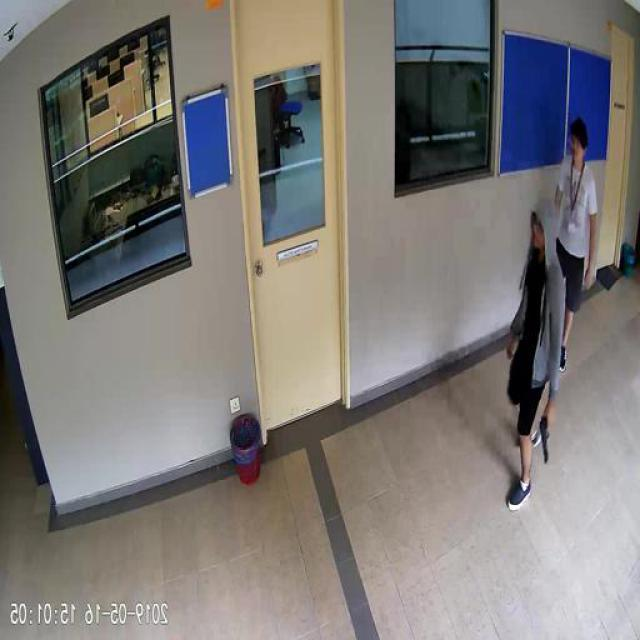Gun: (541, 414, 554, 460)
